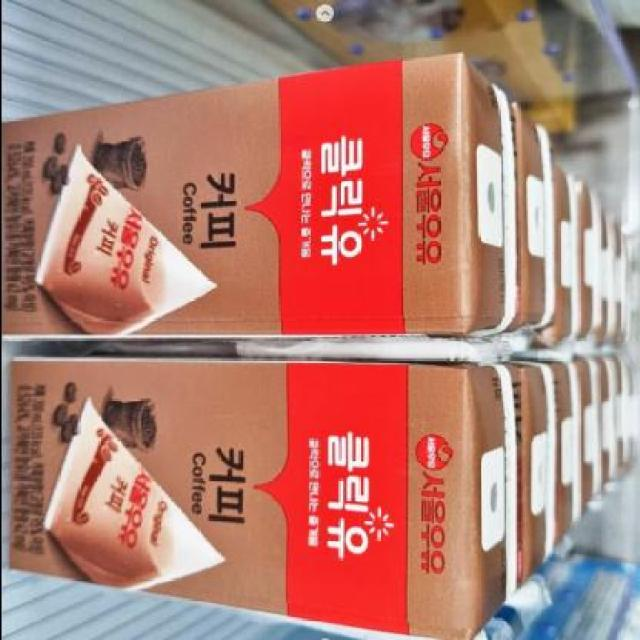tetra: (1, 51, 512, 342), (0, 352, 514, 638)
